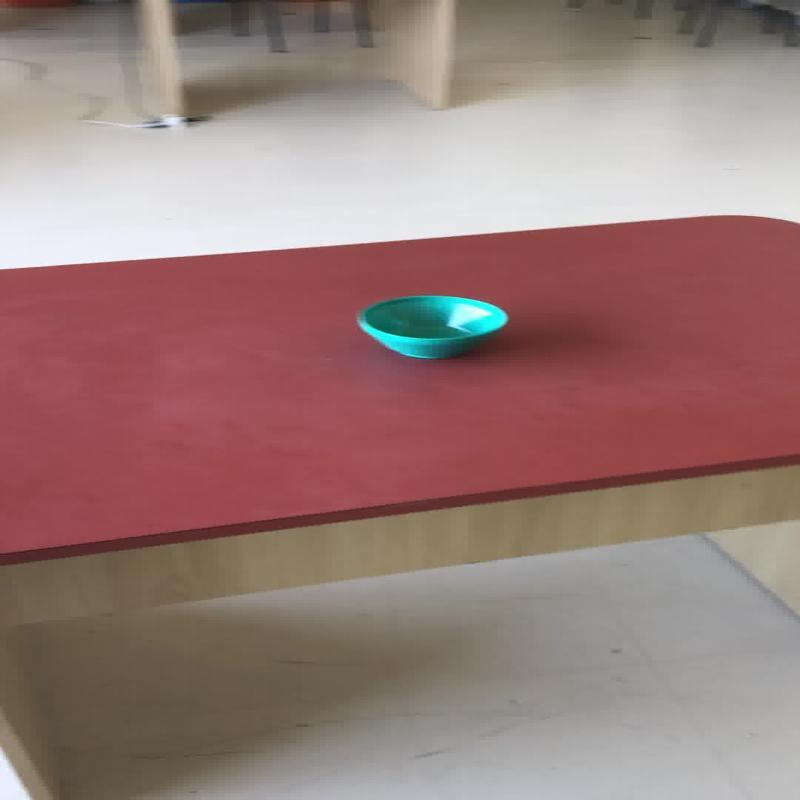bowl: (354, 293, 508, 359)
